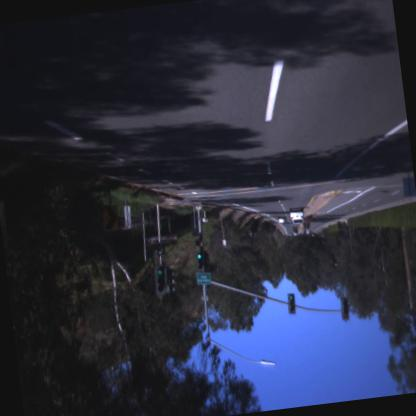trafficlight: (153, 264, 167, 294), (340, 297, 350, 321), (194, 248, 204, 271), (286, 292, 296, 313)
